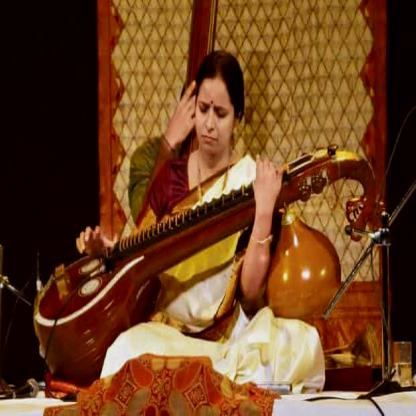Veena: (30, 196, 244, 375)
